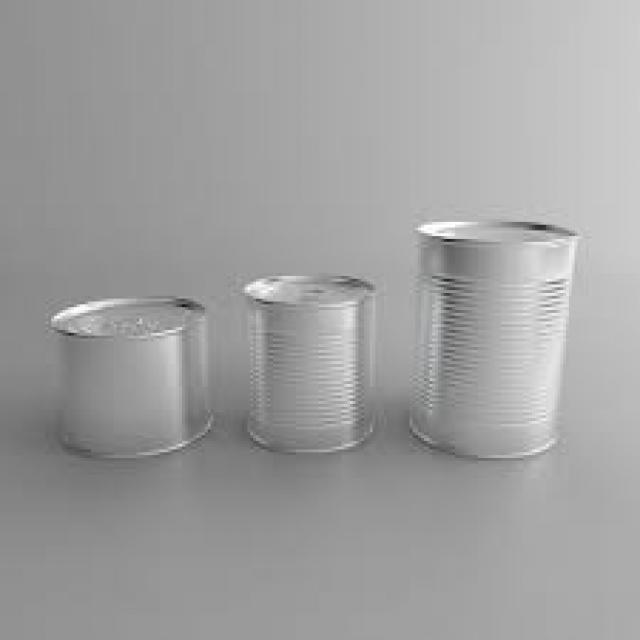recyclable: (403, 216, 578, 464), (45, 293, 214, 461), (239, 270, 373, 452)
